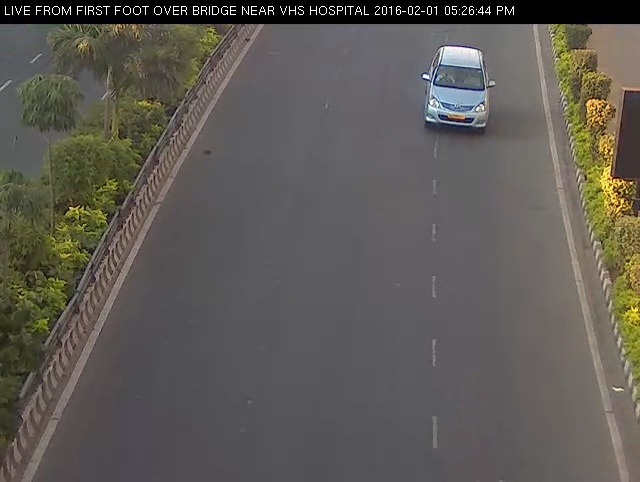Car: (412, 41, 505, 137)
